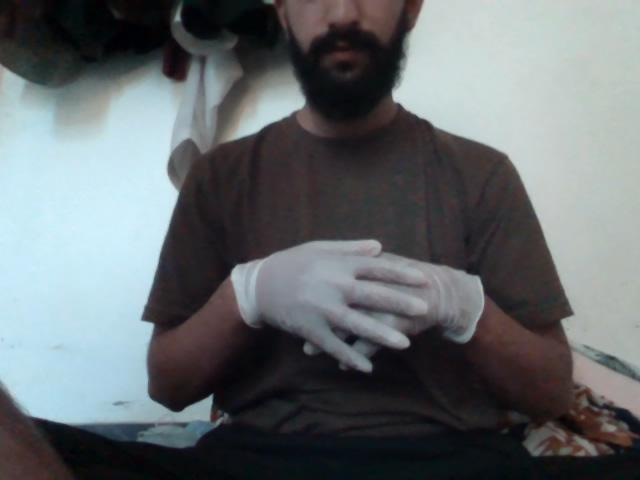gloves: (198, 237, 497, 378)
